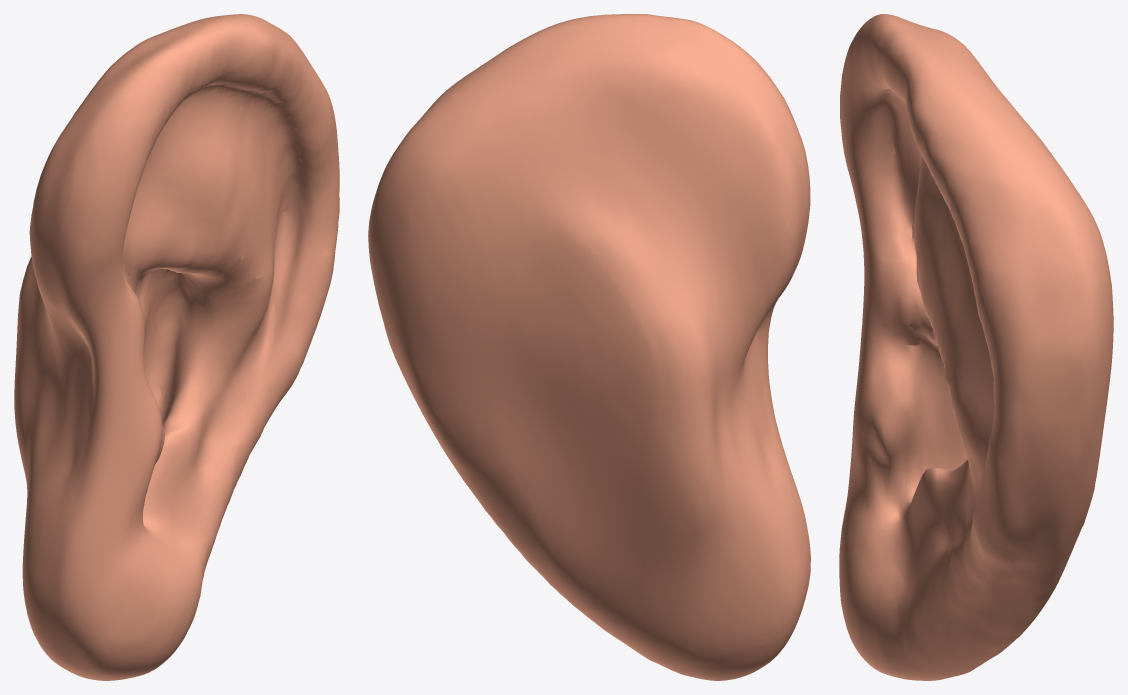
File: telinga.fbx
The picture shows the model from 3 angles, left to right: view 1: azimuth 30°, elevation 25°; view 2: azimuth 150°, elevation 25°; view 3: azimuth 270°, elevation 25°; orthographic projection. The views are drawn at different scales.
Parts seen in each view (by area): view 1: Sphere; view 2: Sphere; view 3: Sphere.
Part boxes in pixels (box(x1,y1,x2,y2)): Sphere: box(14, 14, 339, 680); Sphere: box(368, 14, 810, 680); Sphere: box(839, 14, 1113, 680).
Bounding box in the file's own units: 240 × 401 × 147.
Materials: 1 (1 with a texture image).
